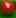red: (0, 0, 16, 18)
